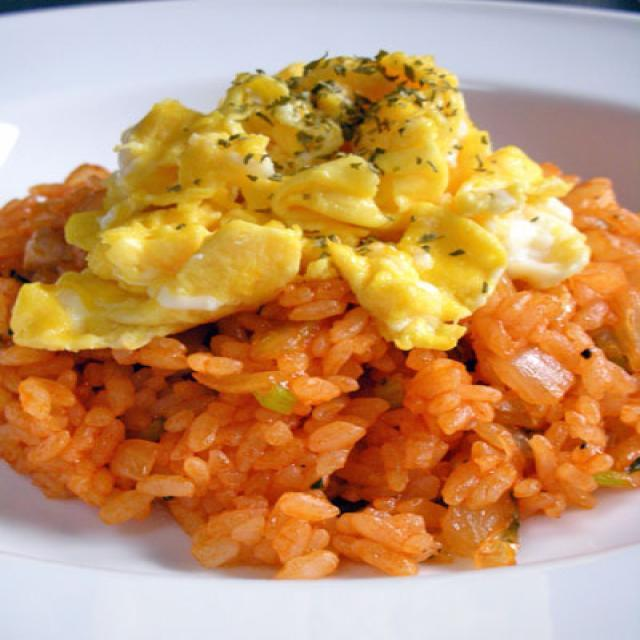Rice: (0, 277, 640, 590)
